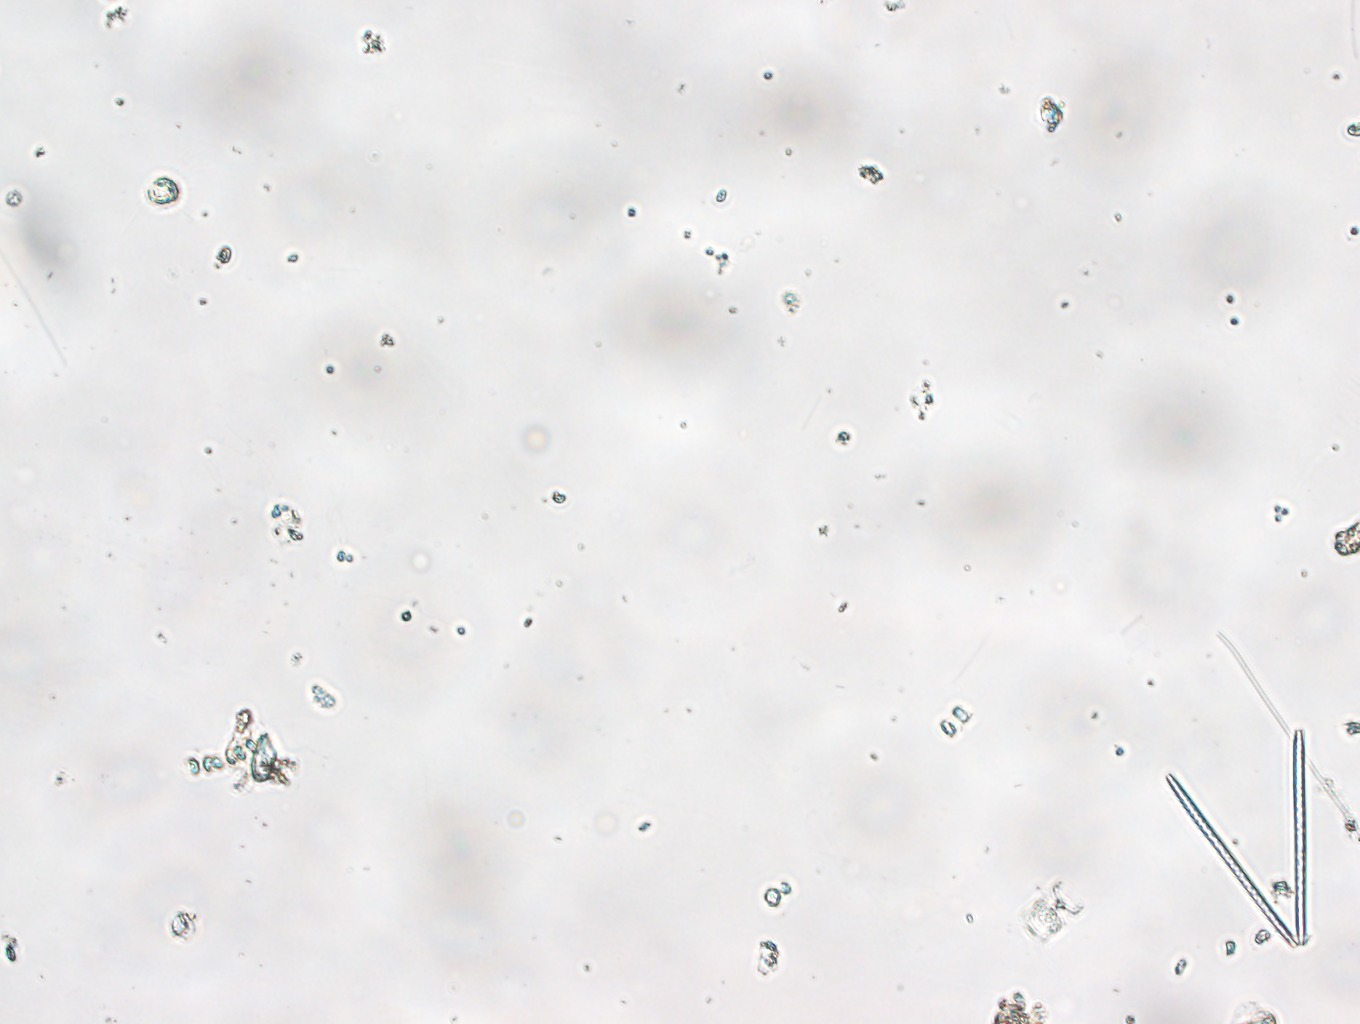thalassionema frauenfeldii: (1158, 727, 1323, 959)
